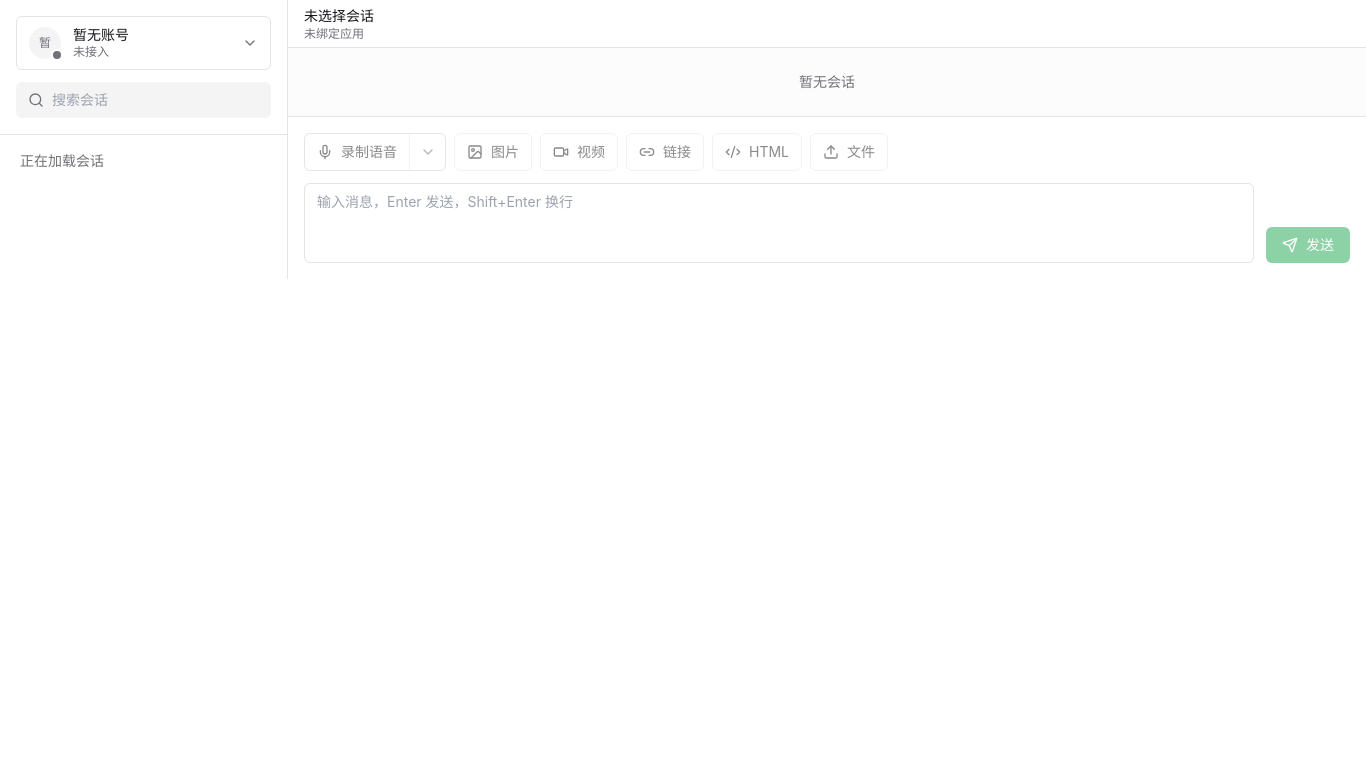
it: WorkbenchPage › 文本发送失败后保留失败气泡并支持重试，重试 pending 时禁用删除
Type "失败后重试" into the text box with placeholder "输入消息，Enter 发送，Shift+Enter 换行" at (779, 223), box [304,183,1254,263]
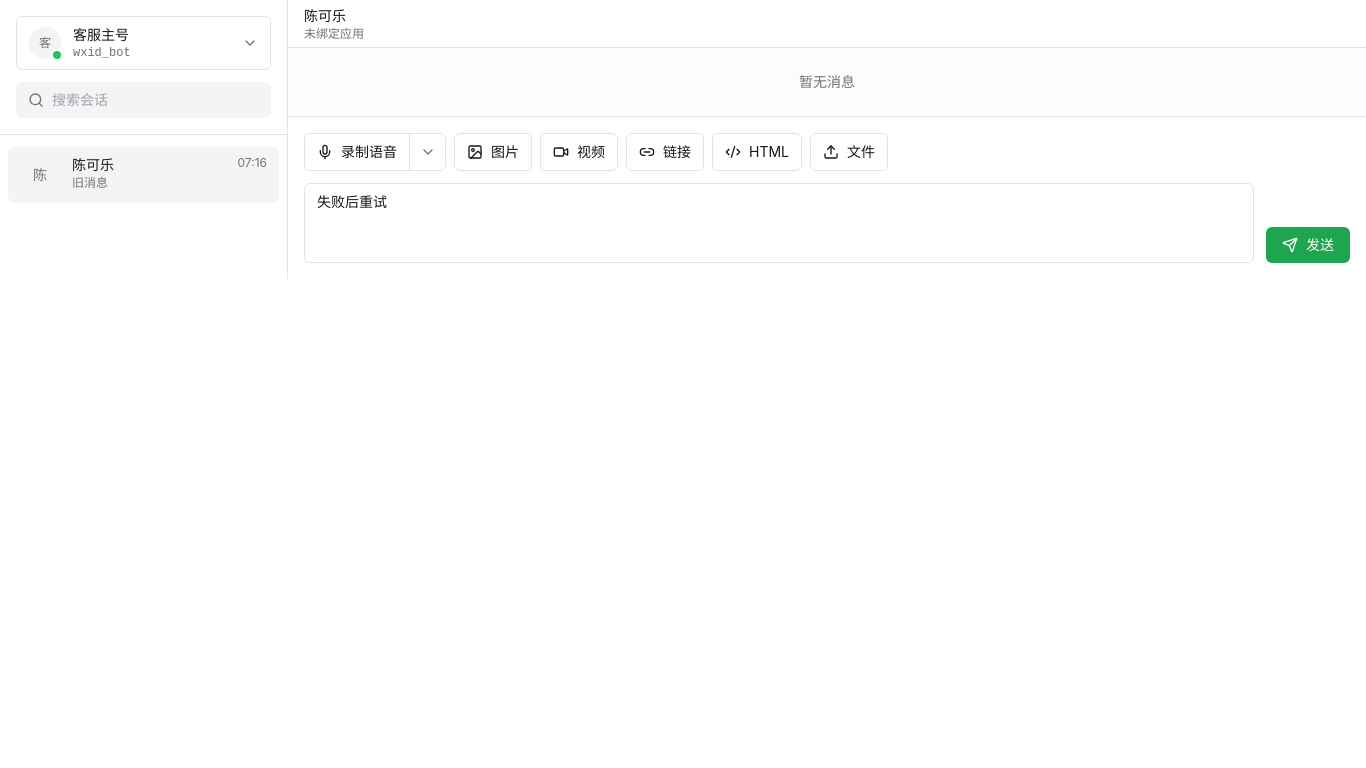
Click the button "发送" at (1308, 245), box [1266,227,1350,263]
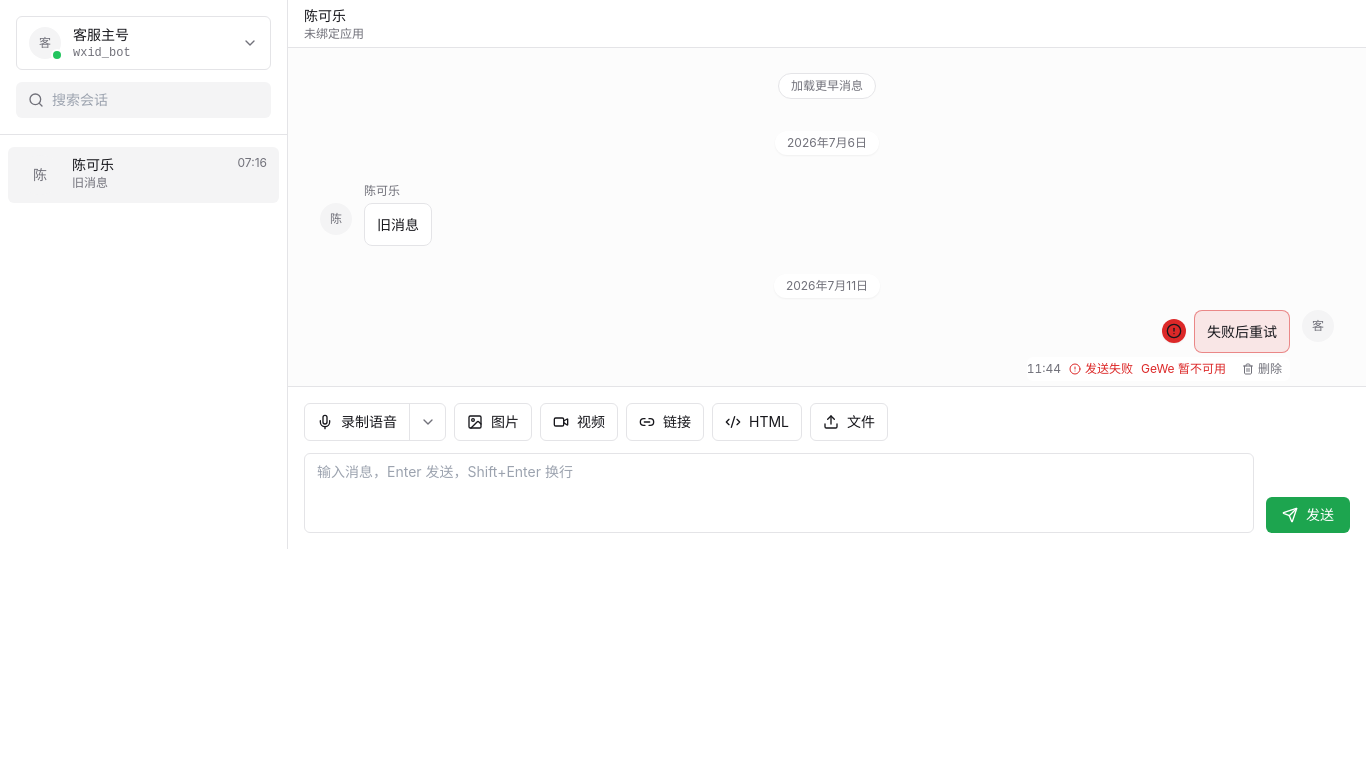
Expected: the text "发送失败" is shown, [1069,361,1133,377]
Expected: the text "GeWe 暂不可用" is shown, [1141,361,1226,377]
Click the button named "重试发送 失败后重试" at (1174, 331), box [1162,319,1186,343]
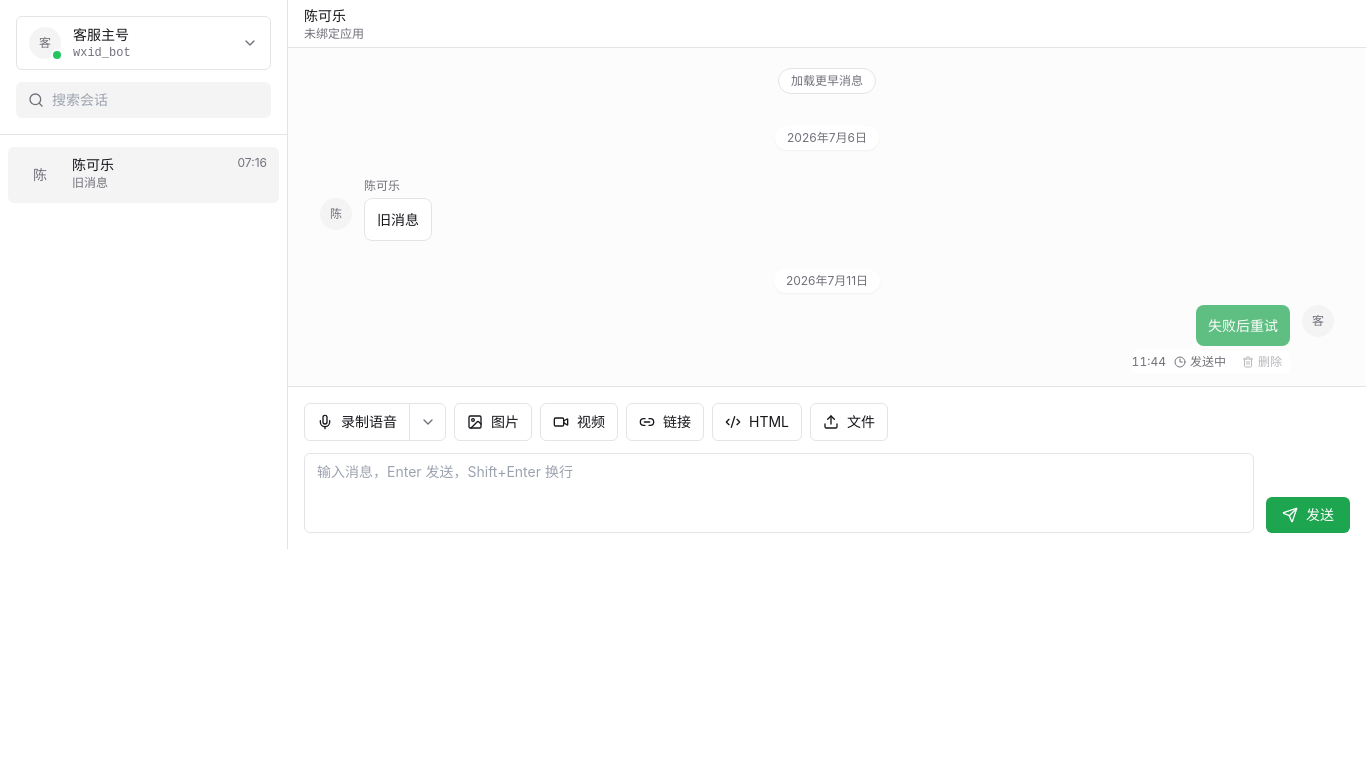
Expected: the text "失败后重试" is shown, [1208,317,1278,334]
Expected: the text "发送中" is shown, [1174,354,1226,370]
Expected: the button with aria-label "删除未发送消息 失败后重试" is disabled, [1234,350,1290,374]
